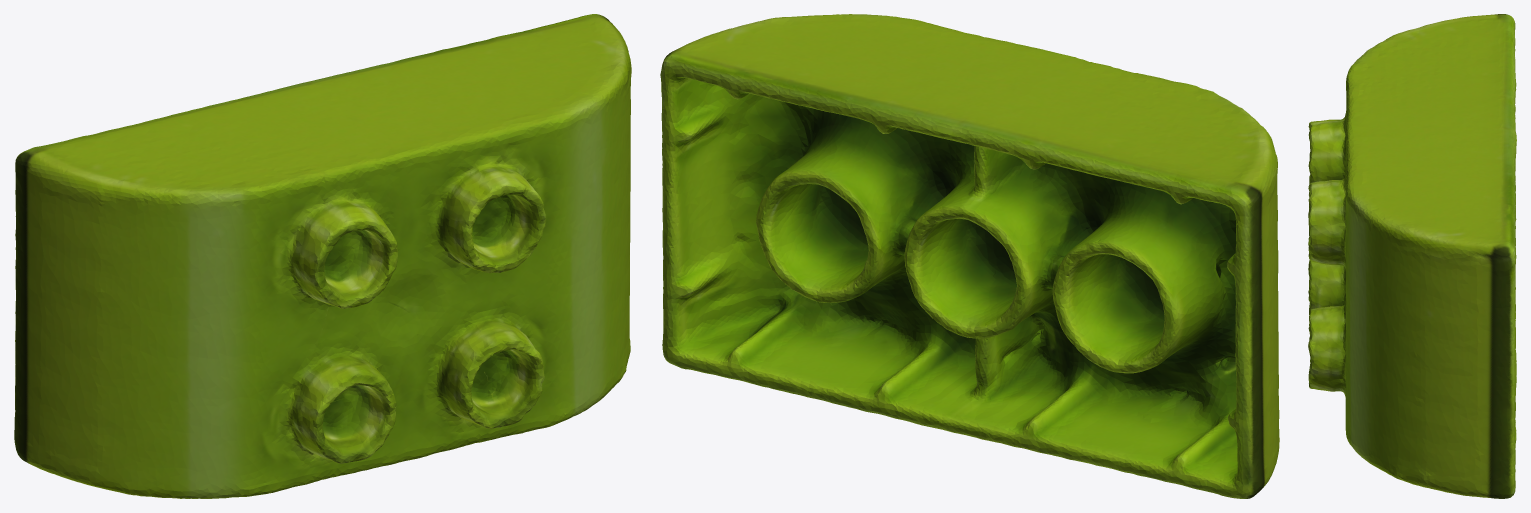
3 views of the same model, side by side, from view 1: azimuth 30°, elevation 25°; view 2: azimuth 150°, elevation 25°; view 3: azimuth 270°, elevation 25° (orthographic). The views are drawn at different scales.
Parts seen in each view (by area): view 1: node; view 2: node; view 3: node.
Part boxes in pixels (box(x1,y1,x2,y2)): node: box(14, 14, 631, 498); node: box(660, 14, 1279, 498); node: box(1308, 14, 1516, 498).
Size of the model in its own units: 0.0641 by 0.0325 by 0.0239.
1 material, 1 textured.
